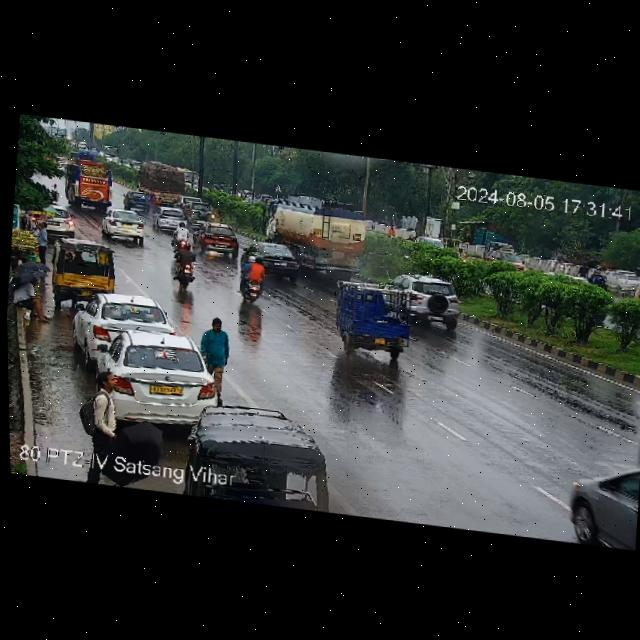bus: (63, 149, 116, 206)
car: (182, 399, 335, 512), (98, 327, 226, 424), (84, 286, 164, 368), (566, 452, 640, 539), (331, 279, 410, 355), (50, 236, 119, 308), (402, 271, 475, 326), (248, 237, 303, 282), (32, 199, 83, 238), (103, 207, 151, 243), (201, 223, 244, 256), (482, 243, 531, 271), (186, 197, 219, 221), (155, 206, 190, 226)
motorcycle: (238, 252, 271, 300), (172, 241, 201, 289), (587, 264, 615, 291), (124, 190, 149, 209), (170, 222, 187, 247)
person: (76, 370, 135, 487), (199, 316, 235, 399), (11, 274, 56, 325), (30, 221, 49, 266)
truck: (259, 187, 366, 278), (134, 161, 191, 205)
